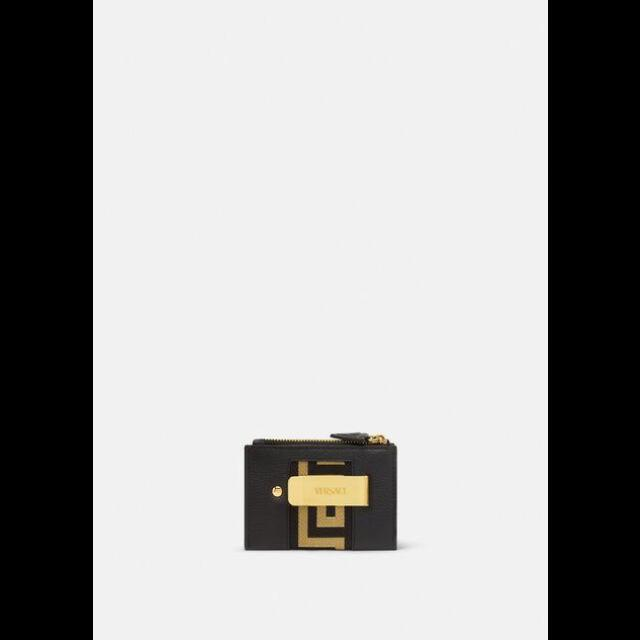wallet: (246, 435, 400, 553)
